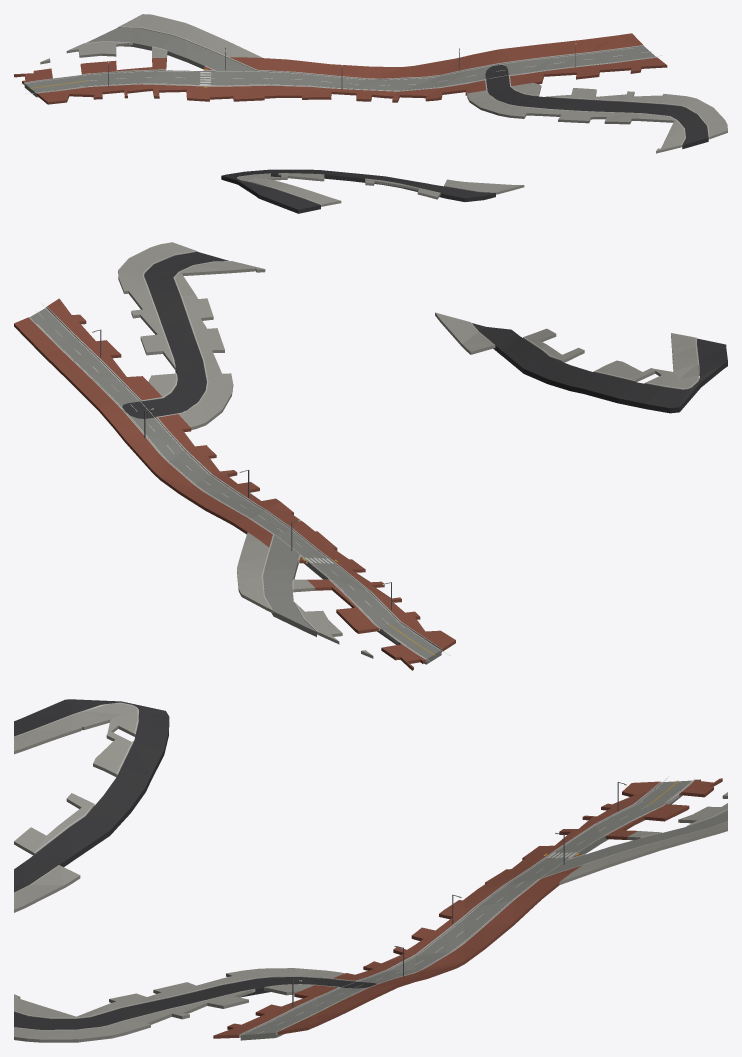
File: 18-218856-118956.b6dba39c.glb
The picture shows the model from 3 angles, top to bottom: view 1: azimuth 30°, elevation 25°; view 2: azimuth 150°, elevation 25°; view 3: azimuth 270°, elevation 25°; orthographic projection. The views are drawn at different scales.
Size of the model in its own units: 151 by 19.88 by 146.
